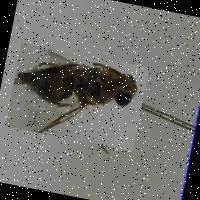Oriental-fruit-fly: (5, 43, 149, 151)
